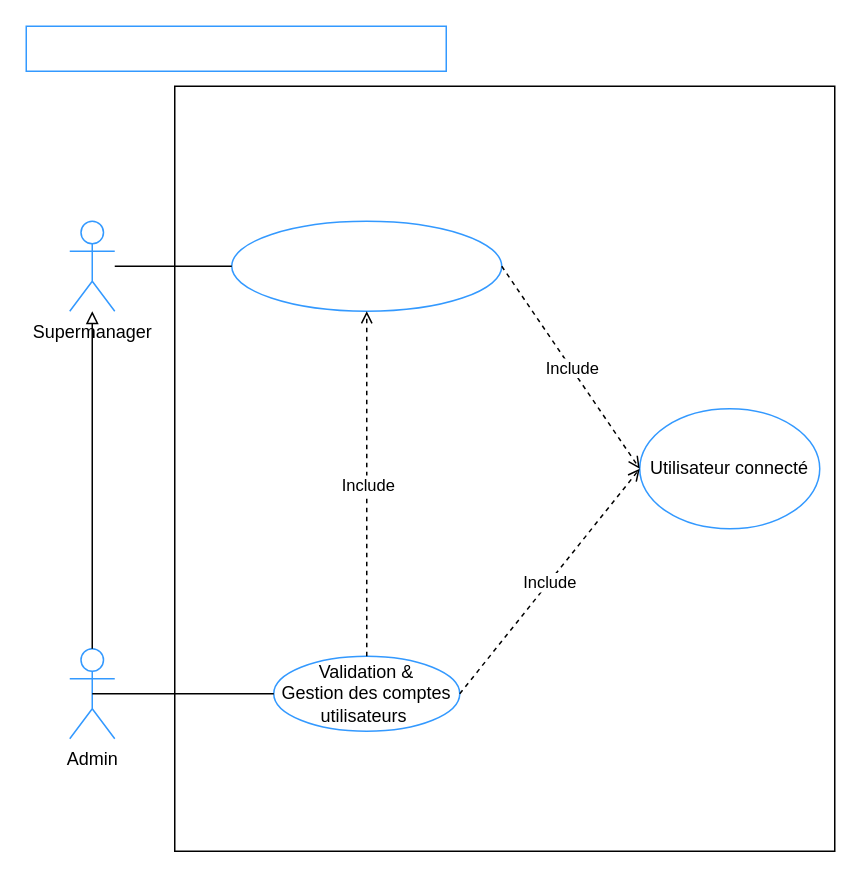
Some shapes in this 861 by 878 pixel diagram are drawn without their labels. The centre of each missing label's shape, as x and y in pixels:
"Demander des actions sur les comptes utilisateurs" belongs at [366,265].
"Diagramme de Cas d'utilisation : Optitop Mobile" belongs at [235,48].
